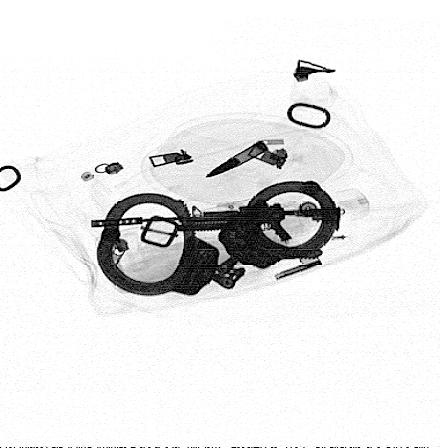Bullet: (203, 140, 271, 177)
Gun: (91, 197, 342, 250)
HandCuffs: (93, 178, 339, 298)
